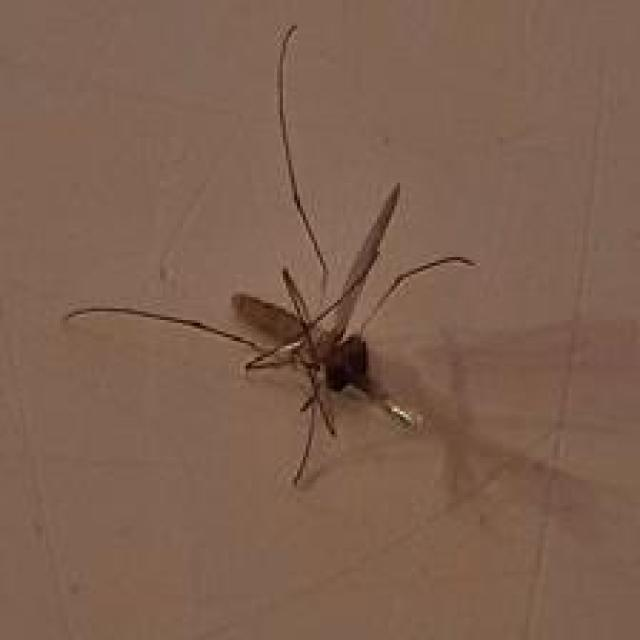Culex: (64, 22, 479, 487)
